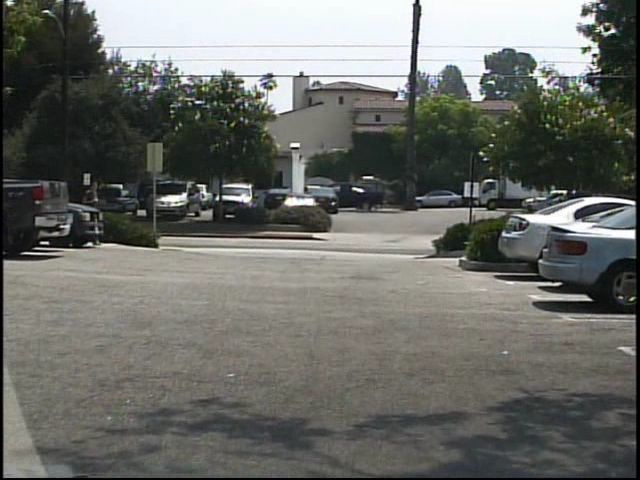person: (80, 179, 108, 247)
